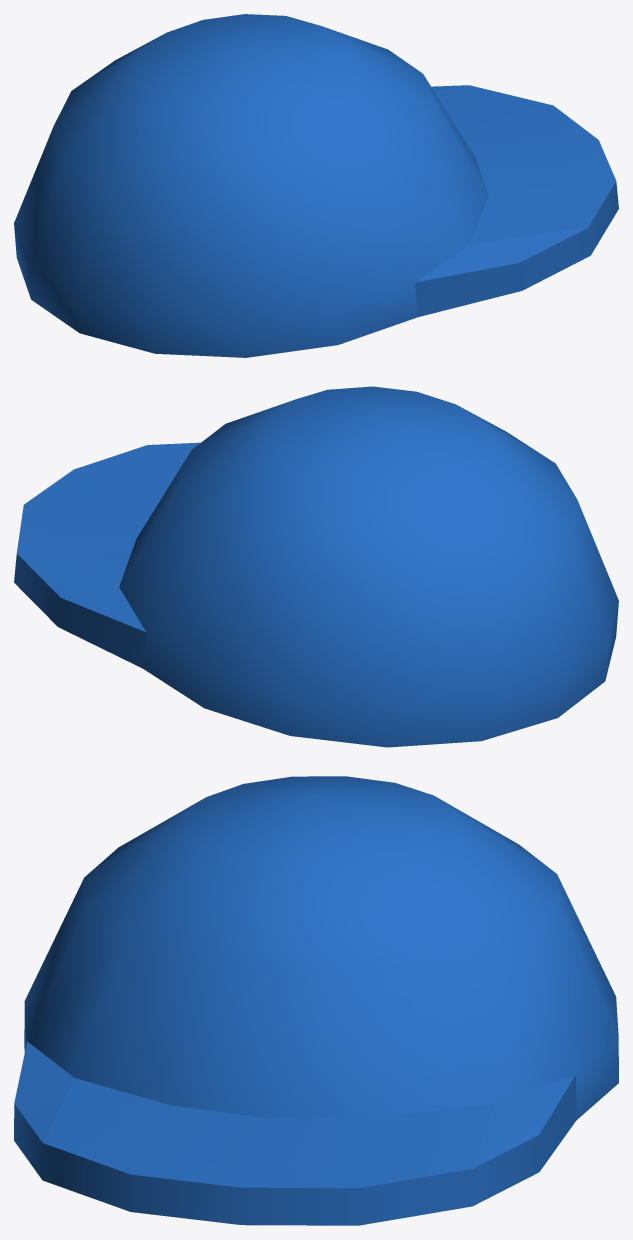
Rendered from Charakter_Student_cap.FBX.
The picture shows the model from 3 angles, top to bottom: view 1: azimuth 30°, elevation 25°; view 2: azimuth 150°, elevation 25°; view 3: azimuth 270°, elevation 25°; orthographic projection. The views are drawn at different scales.
Parts seen in each view (by area): view 1: Charakter_Student_cap; view 2: Charakter_Student_cap; view 3: Charakter_Student_cap.
Boxes of the visible parts, x1=… form: Charakter_Student_cap: x1=14, y1=14, x2=618, y2=357; Charakter_Student_cap: x1=14, y1=386, x2=618, y2=747; Charakter_Student_cap: x1=14, y1=776, x2=618, y2=1225.
Bounding box in the file's own units: 181 × 145 × 73.34.
